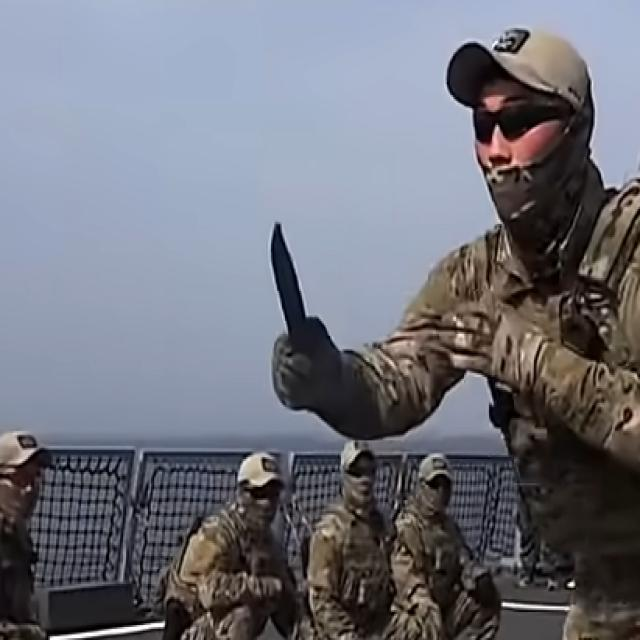knife: (261, 215, 326, 400)
